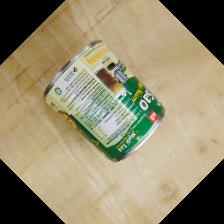NSPN_Lon: (40, 39, 166, 164)
